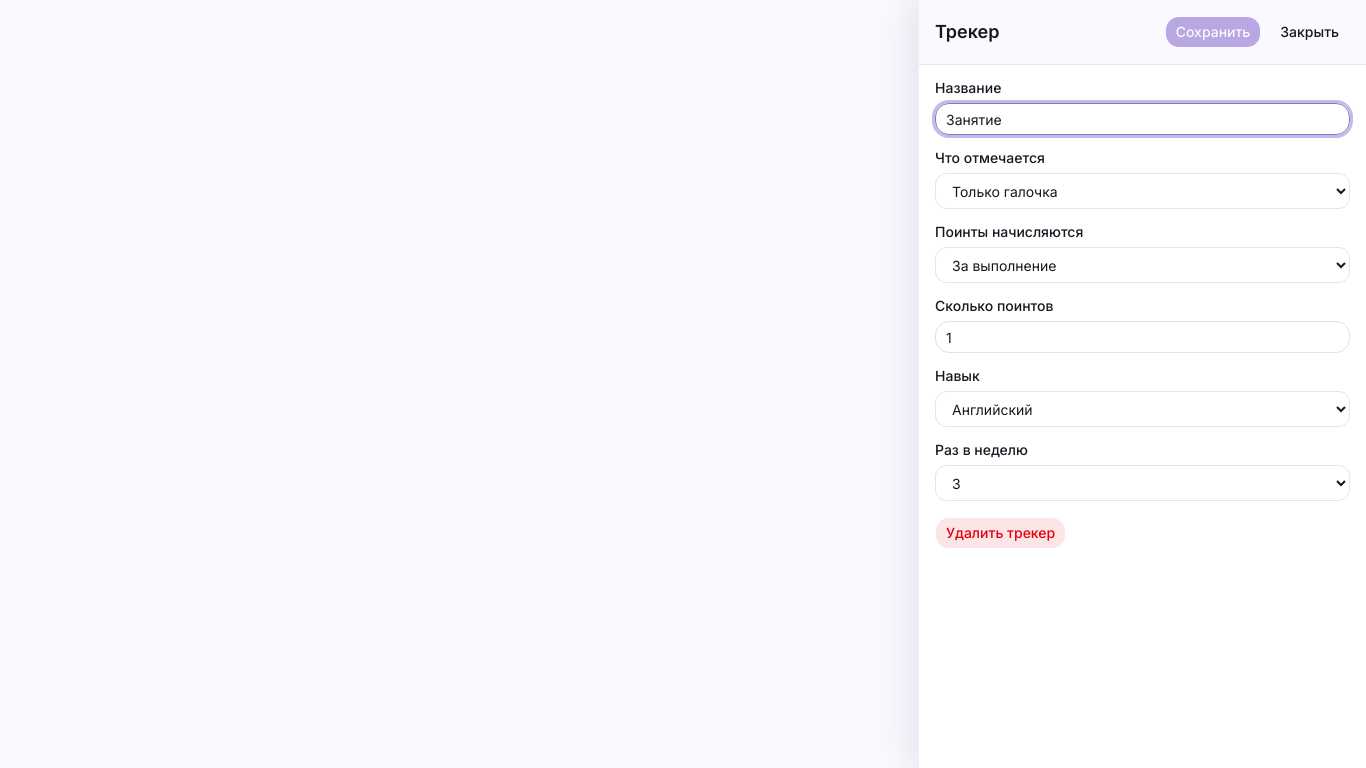
Test case: TrackerDrawer › спрашивает подтверждение при закрытии с несохранёнными изменениями
Step 1. Type "!" into the field labelled "Название" → (1142, 119), box [935, 103, 1350, 135]
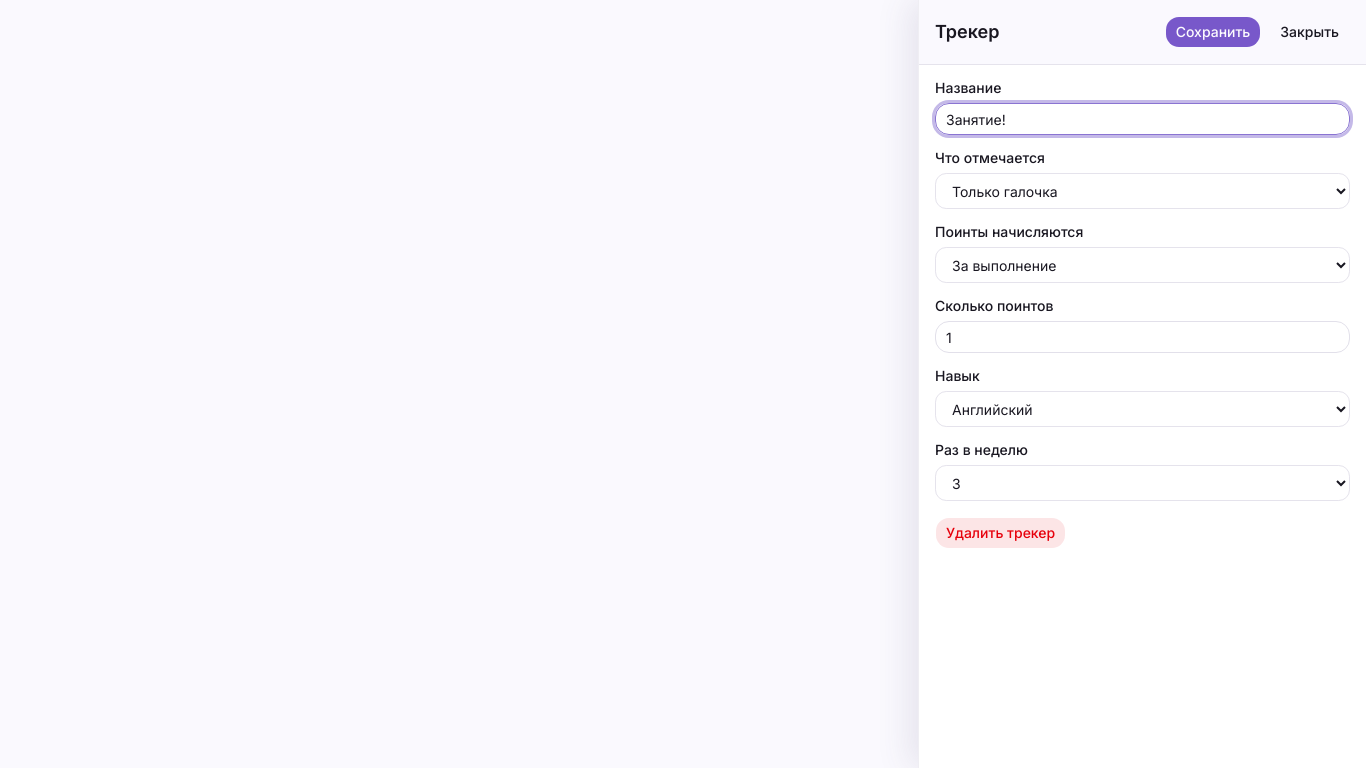
Step 2. Click the button "Закрыть" → (1310, 32), box [1269, 16, 1350, 48]
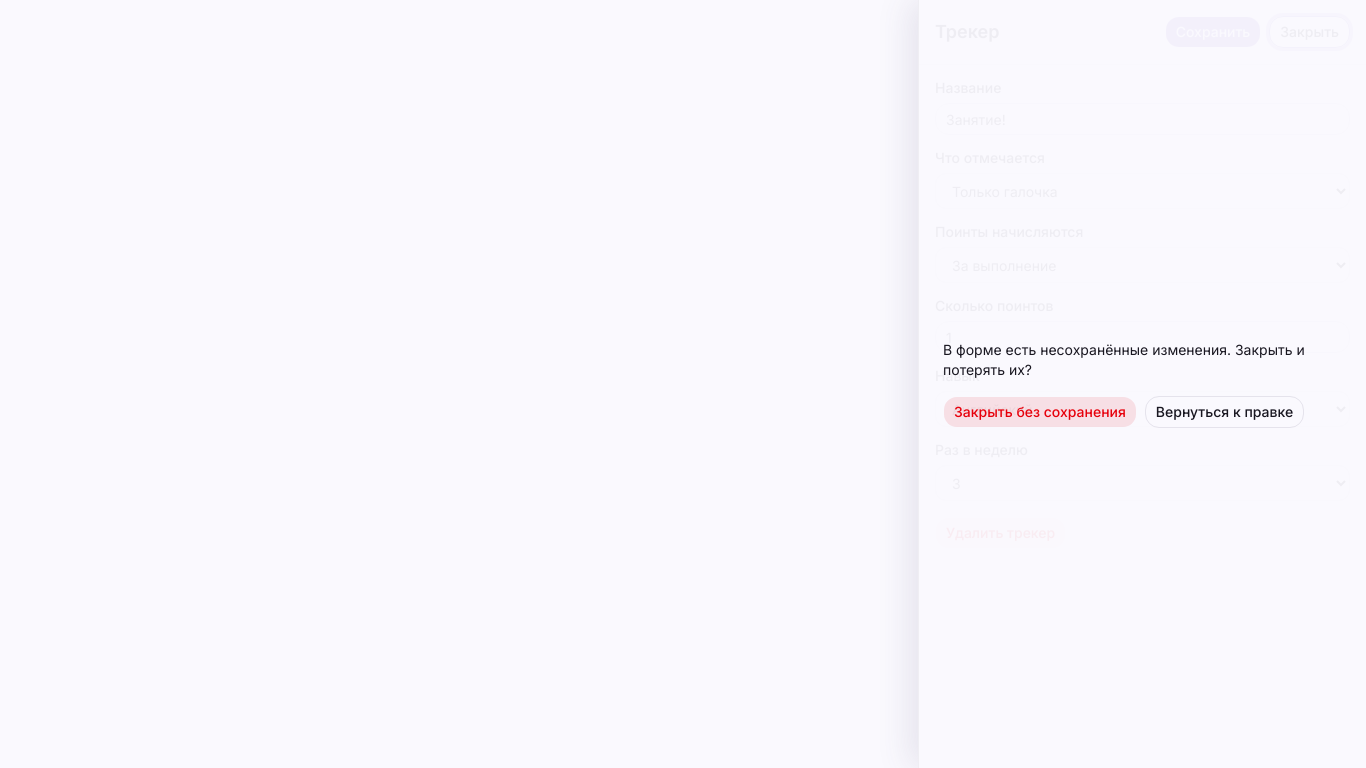
Expected: the text "В форме есть несохранённые изменения. Закрыть и потерять их?" is shown, [943, 340, 1342, 380]
